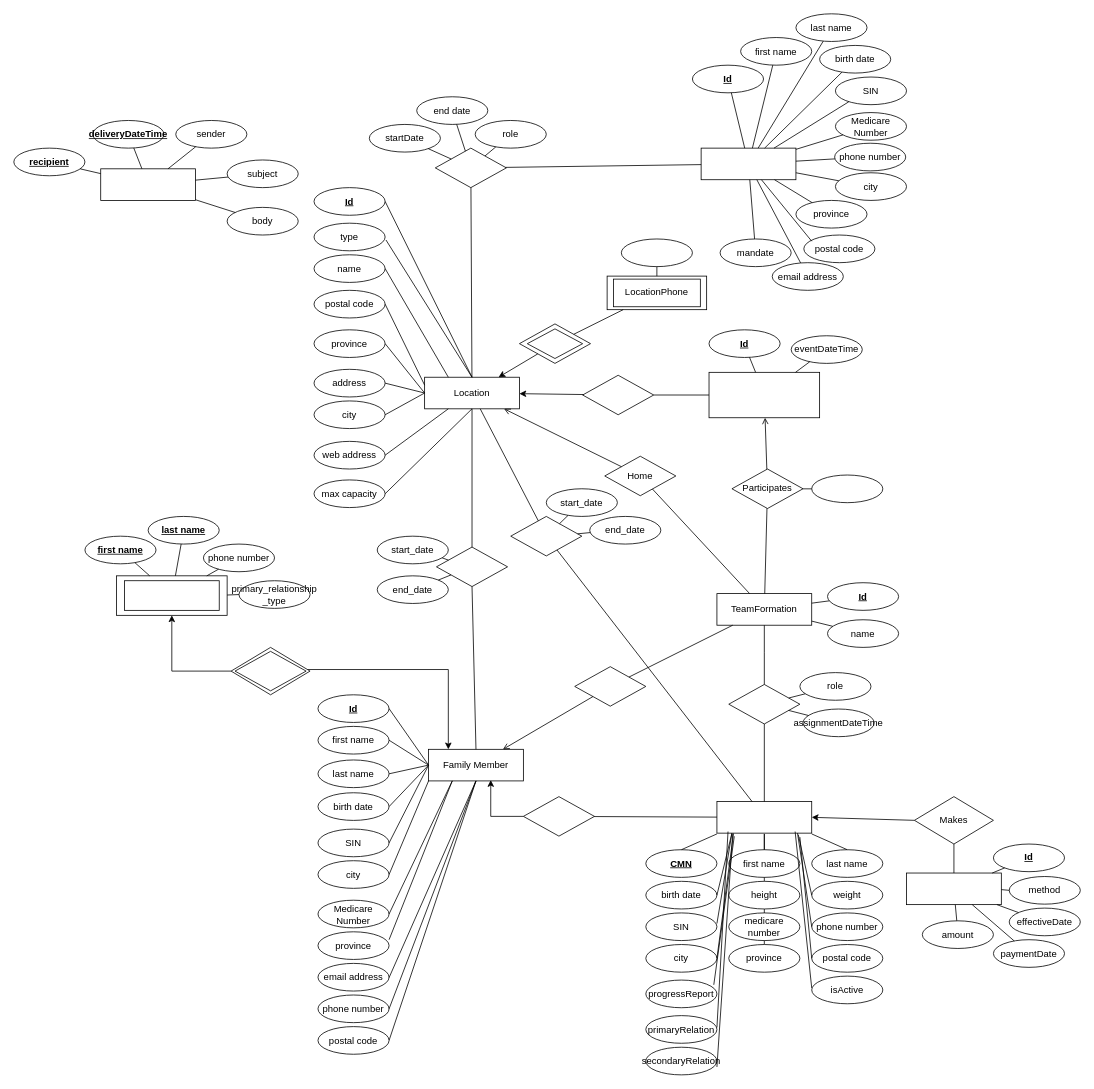
The diagram is 1094 pixels wide and 1089 high, and some of its shapes have lost their labels. Here are the shapes that lost their labels. From the top down, the centre of each, then its label:
At pixel 470 167: "Operates".
At pixel 748 163: "Personnel".
At pixel 148 184: "LogEmail".
At pixel 656 252: "PhoneNumber".
At pixel 555 343: "Has".
At pixel 618 394: "Hosts".
At pixel 764 395: "Session".
At pixel 847 488: "score".
At pixel 546 536: "Practices".
At pixel 472 566: "Associated".
At pixel 171 595: "Secondary Family Member".
At pixel 270 671: "designates".
At pixel 610 686: "Captain".
At pixel 764 704: "PlaysFor".
At pixel 558 816: "Relationship".
At pixel 764 817: "Club Member".
At pixel 953 888: "Payment".
